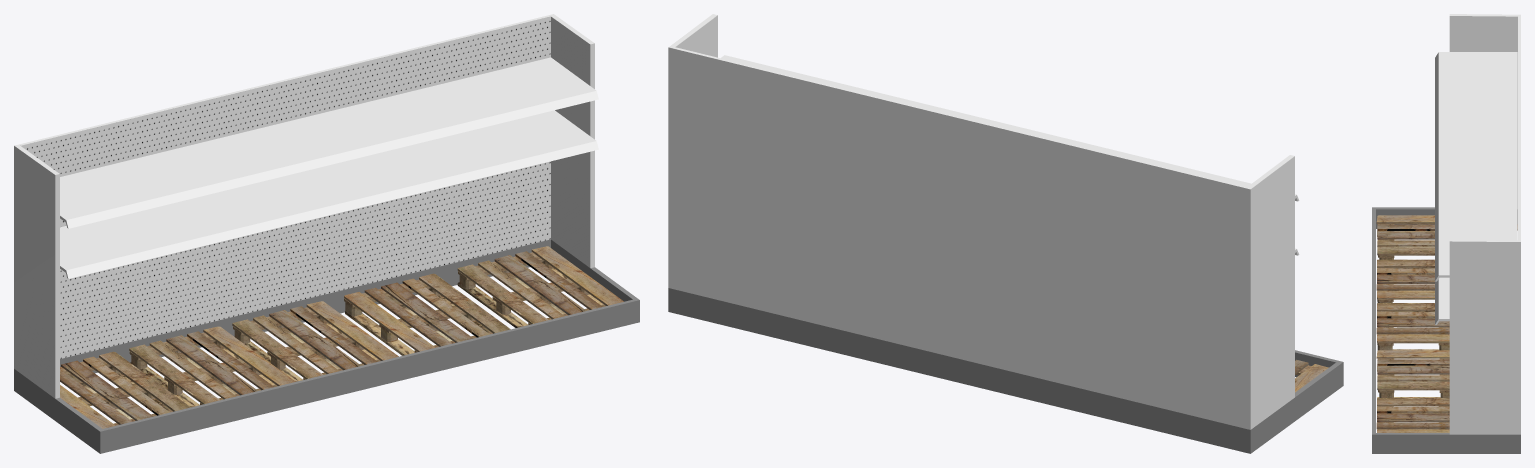
The model's file is ray_store_standard_003.FBX.
3 renders of one model, left to right at view 1: azimuth 30°, elevation 25°; view 2: azimuth 150°, elevation 25°; view 3: azimuth 270°, elevation 25°, orthographic. The views are drawn at different scales.
Visible parts, largest first — view 1: ray_store_standard_003; view 2: ray_store_standard_003; view 3: ray_store_standard_003.
Part boxes in pixels (bbox=[...]): ray_store_standard_003: bbox=[14, 14, 639, 453]; ray_store_standard_003: bbox=[668, 14, 1343, 453]; ray_store_standard_003: bbox=[1372, 14, 1520, 453].
Size of the model in its own units: 4.69 by 2.05 by 1.3.
